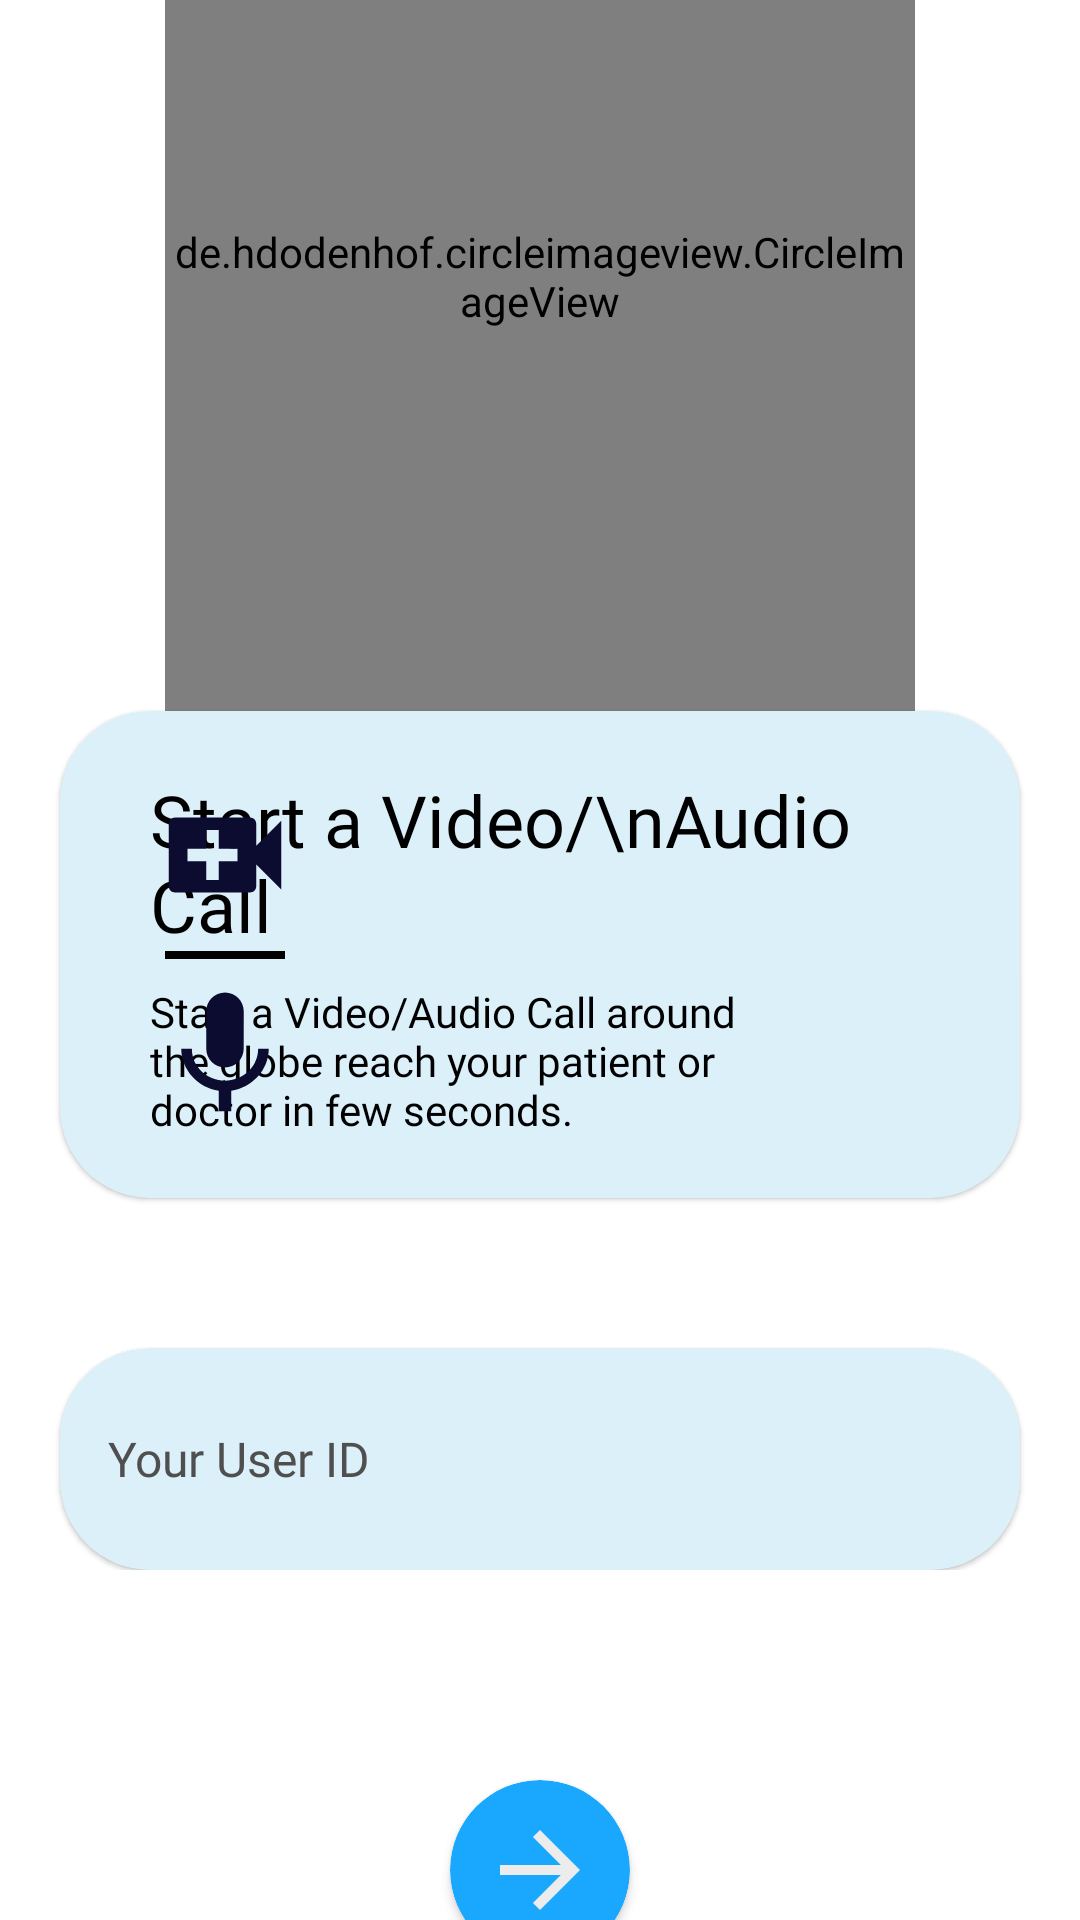

Icons on this 1080x1920 Android screen, each with the point to tap as (x,y):
Next Button: (540,1870)
